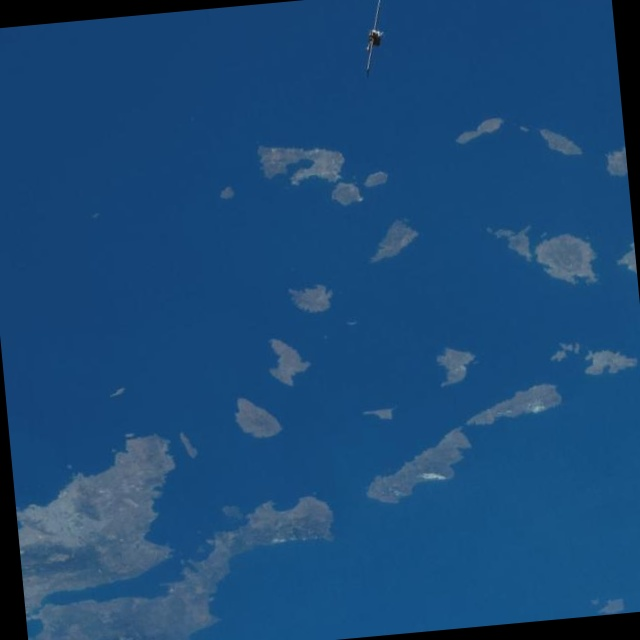satellite: (349, 0, 409, 83)
